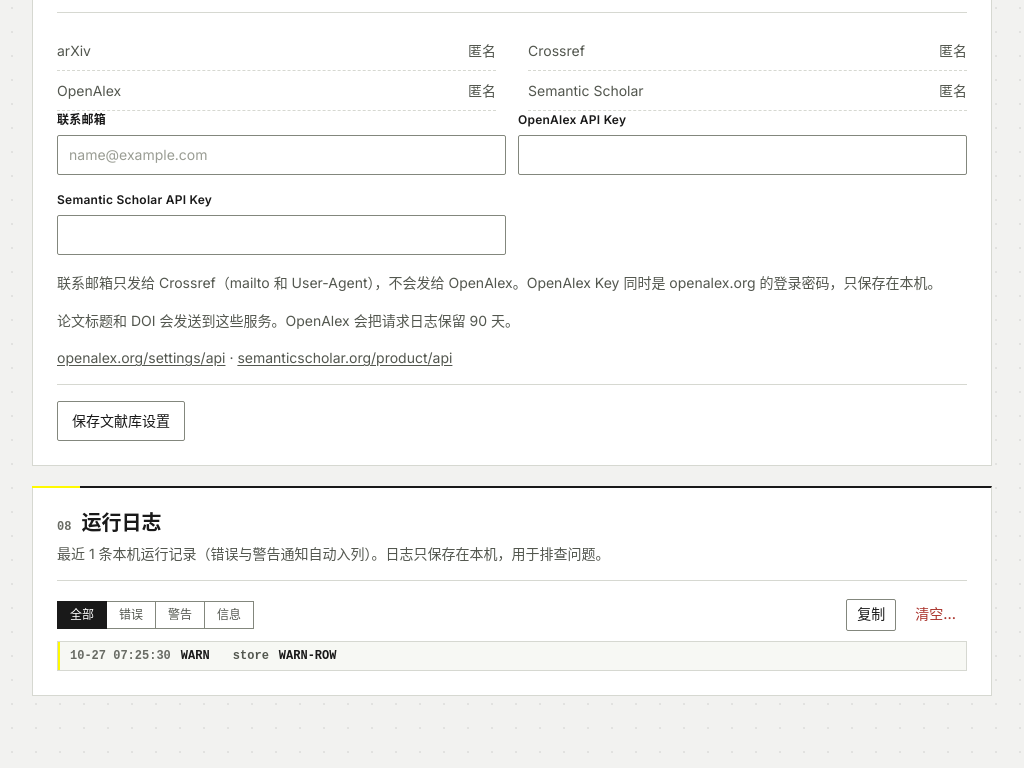
Test: SystemView · 运行日志面板 › 「清空…」两步确认：第一步只出现确认按钮且日志仍在，确认后列表清空
(page scrolled)
Click the button "清空…" at x=936, y=615, box [904,599,967,631]
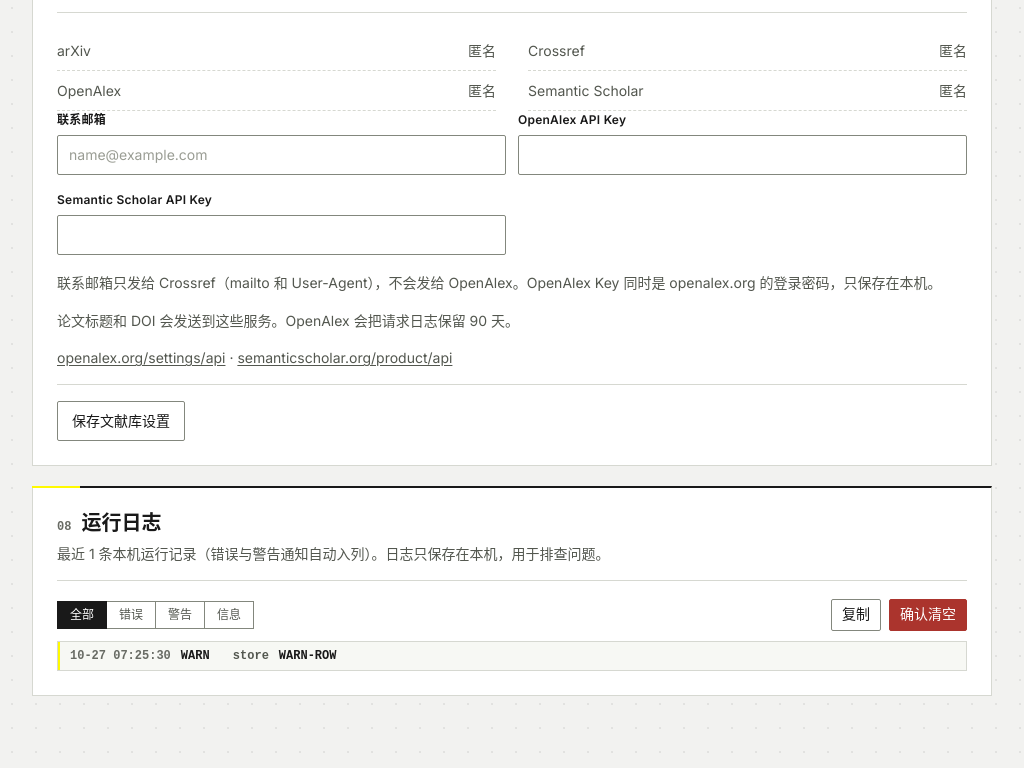
Expected: the text "WARN-ROW" is shown, [279,646,336,666]
Expected: the button "确认清空" is shown
Click the button "确认清空" at x=928, y=615, box [889,599,967,631]
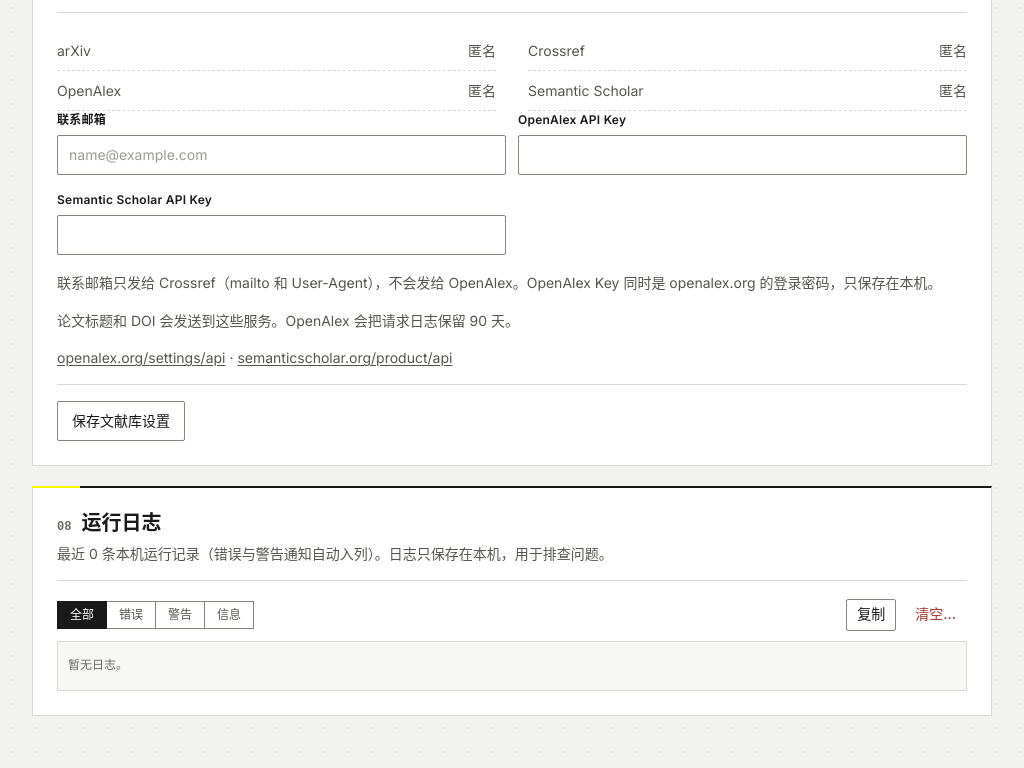
Expected: the text "暂无日志。" is shown, [68,659,128,673]
